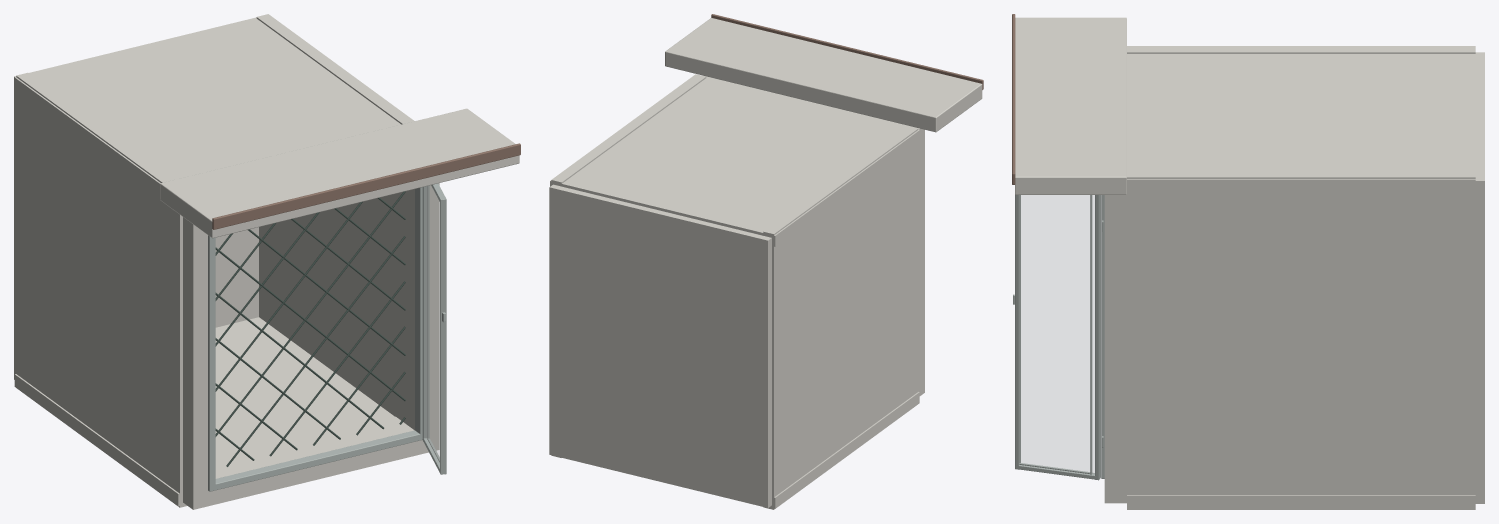
File: govindam-window.glb
The picture shows the model from 3 angles, left to right: view 1: azimuth 30°, elevation 25°; view 2: azimuth 150°, elevation 25°; view 3: azimuth 270°, elevation 25°; orthographic projection. The views are drawn at different scales.
Parts seen in each view (by area): view 1: Observed pale plaster reveal; inferred albedo, Observed pale metallic casement profiles; inferred alloy, Observed dark diagonal security lattice, Observed brown hood fascia; inferred albedo, Inferred physically transmitting casement glass; view 2: Observed pale plaster reveal; inferred albedo, Observed brown hood fascia; inferred albedo; view 3: Observed pale plaster reveal; inferred albedo, Inferred physically transmitting casement glass, Observed pale metallic casement profiles; inferred alloy, Observed brown hood fascia; inferred albedo.
Boxes of the visible parts, left/top/right/bottom form: Observed pale plaster reveal; inferred albedo: left=14, top=14, right=519, bottom=509; Observed pale metallic casement profiles; inferred alloy: left=208, top=183, right=446, bottom=491; Observed dark diagonal security lattice: left=215, top=191, right=405, bottom=466; Observed brown hood fascia; inferred albedo: left=212, top=143, right=520, bottom=229; Inferred physically transmitting casement glass: left=426, top=185, right=439, bottom=461; Observed pale plaster reveal; inferred albedo: left=549, top=18, right=982, bottom=509; Observed brown hood fascia; inferred albedo: left=711, top=14, right=983, bottom=89; Observed pale plaster reveal; inferred albedo: left=1015, top=17, right=1484, bottom=509; Inferred physically transmitting casement glass: left=1021, top=195, right=1094, bottom=473; Observed pale metallic casement profiles; inferred alloy: left=1013, top=195, right=1104, bottom=480; Observed brown hood fascia; inferred albedo: left=1012, top=14, right=1015, bottom=184.
Size of the model in its own units: 2.06 by 2.13 by 2.57.
